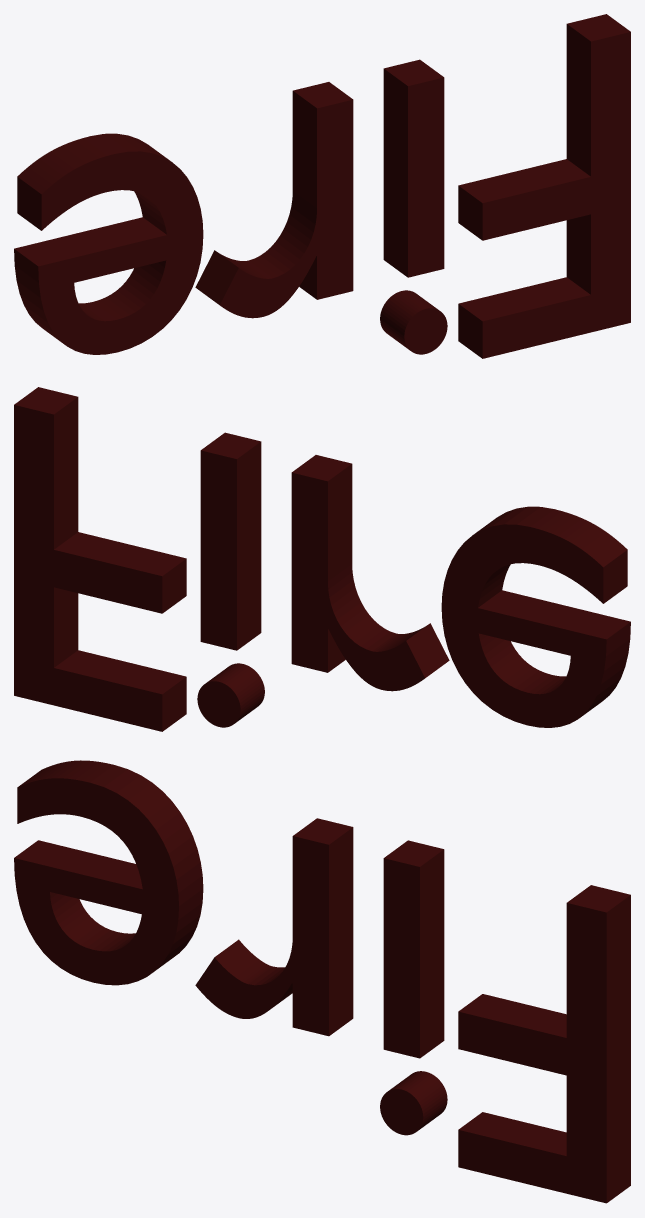
File: Stop Button text.obj
3 views of the same model, one above another, from view 1: azimuth 30°, elevation 25°; view 2: azimuth 150°, elevation 25°; view 3: azimuth 330°, elevation 25° (orthographic).
Parts seen in each view (by area): view 1: Text; view 2: Text; view 3: Text.
Boxes of the visible parts, bbox=[...] form: Text: bbox=[14, 14, 630, 358]; Text: bbox=[14, 387, 630, 731]; Text: bbox=[14, 760, 630, 1203].
Size of the model in its own units: 0.7688 by 0.3654 by 0.0546.
